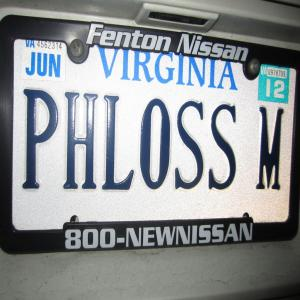Vehicle-registration-plate: (1, 15, 300, 256)
